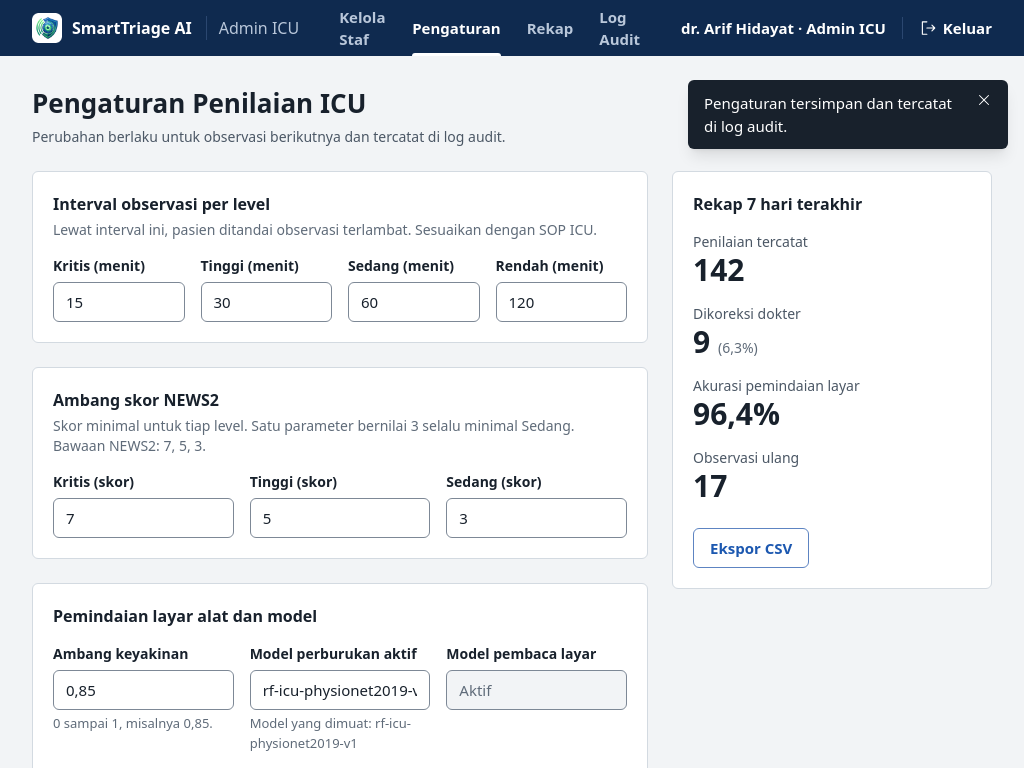
Test case: Pengaturan Penilaian ICU › ekspor yang gagal ditampilkan sebagai notifikasi
Expected: the field showing "rf-icu-physionet2019-v1" is shown, x1=250 y1=670 x2=430 y2=710
Click the button "Ekspor CSV".
click(751, 548)  # box x1=693 y1=528 x2=809 y2=568
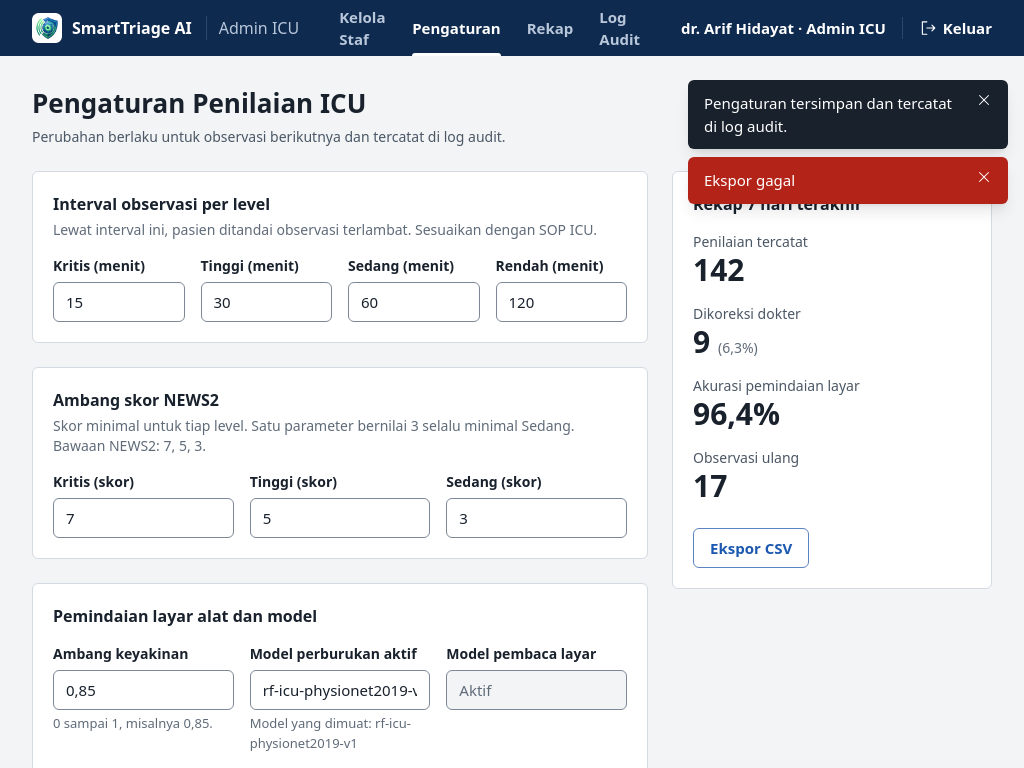
Now the text "Ekspor gagal" is shown, box x1=704 y1=170 x2=795 y2=190
